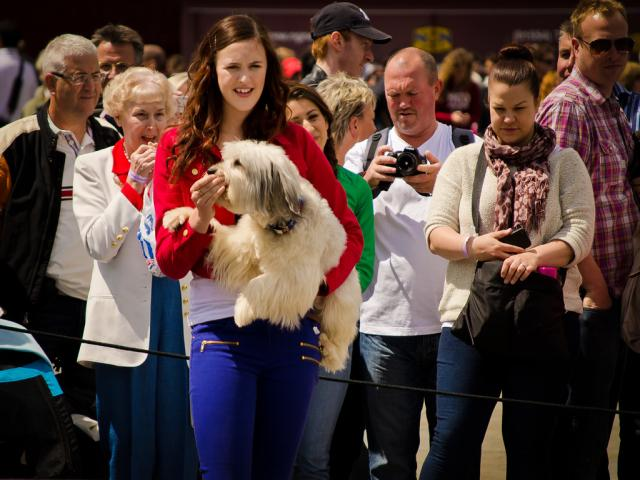Dog: (163, 133, 365, 375)
